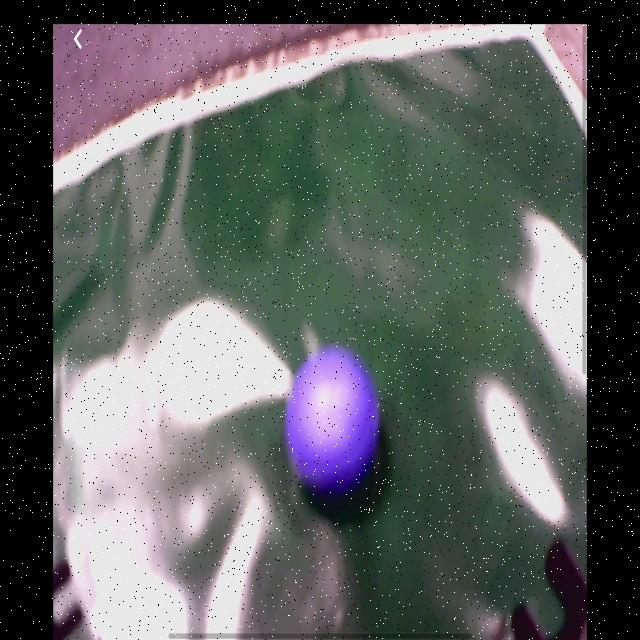ball: (288, 349, 380, 489)
